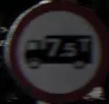Heavy Vehicles: (10, 11, 98, 85)
